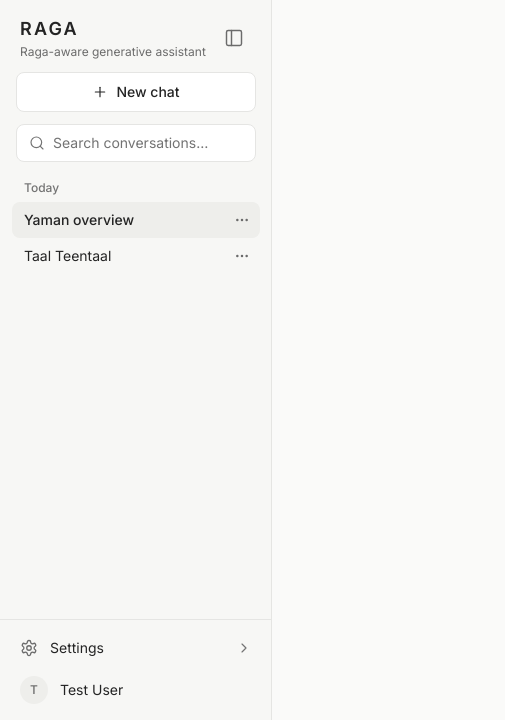
Scenario: Sidebar conversation menu › moves focus into the menu and supports arrow keys and Escape
The image size is (505, 720).
Click the button named "Options for Yaman overview" at (242, 220), box x1=228 y1=206 x2=256 y2=234
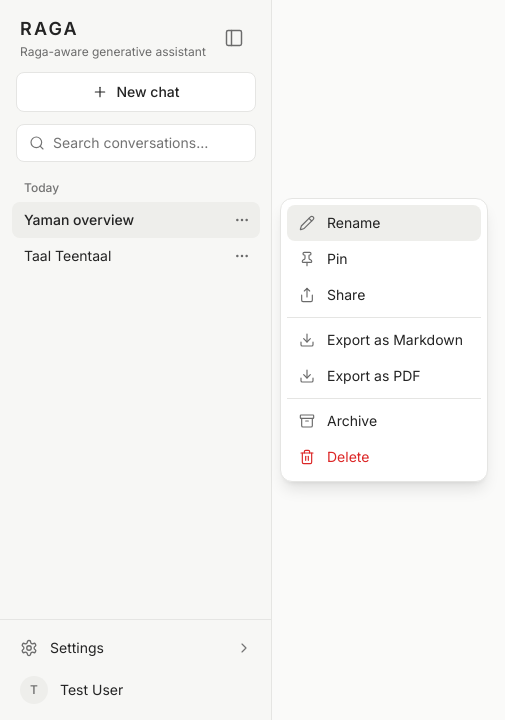
Press Arrowdown
Press Arrowup
Press Escape
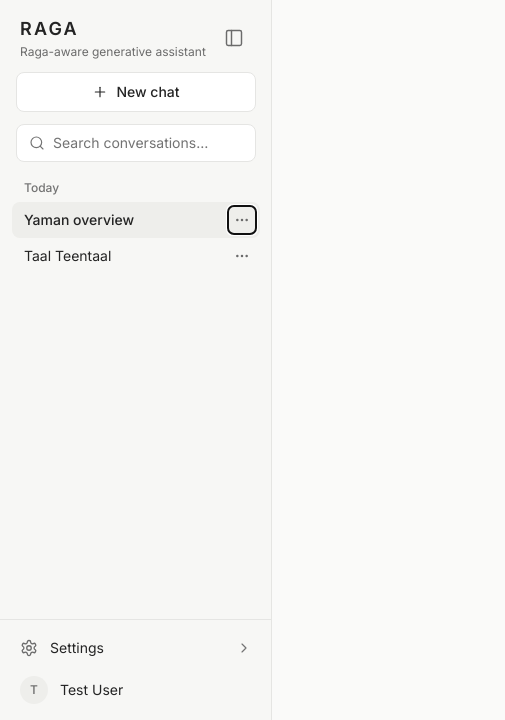
Expected: the menu is gone
